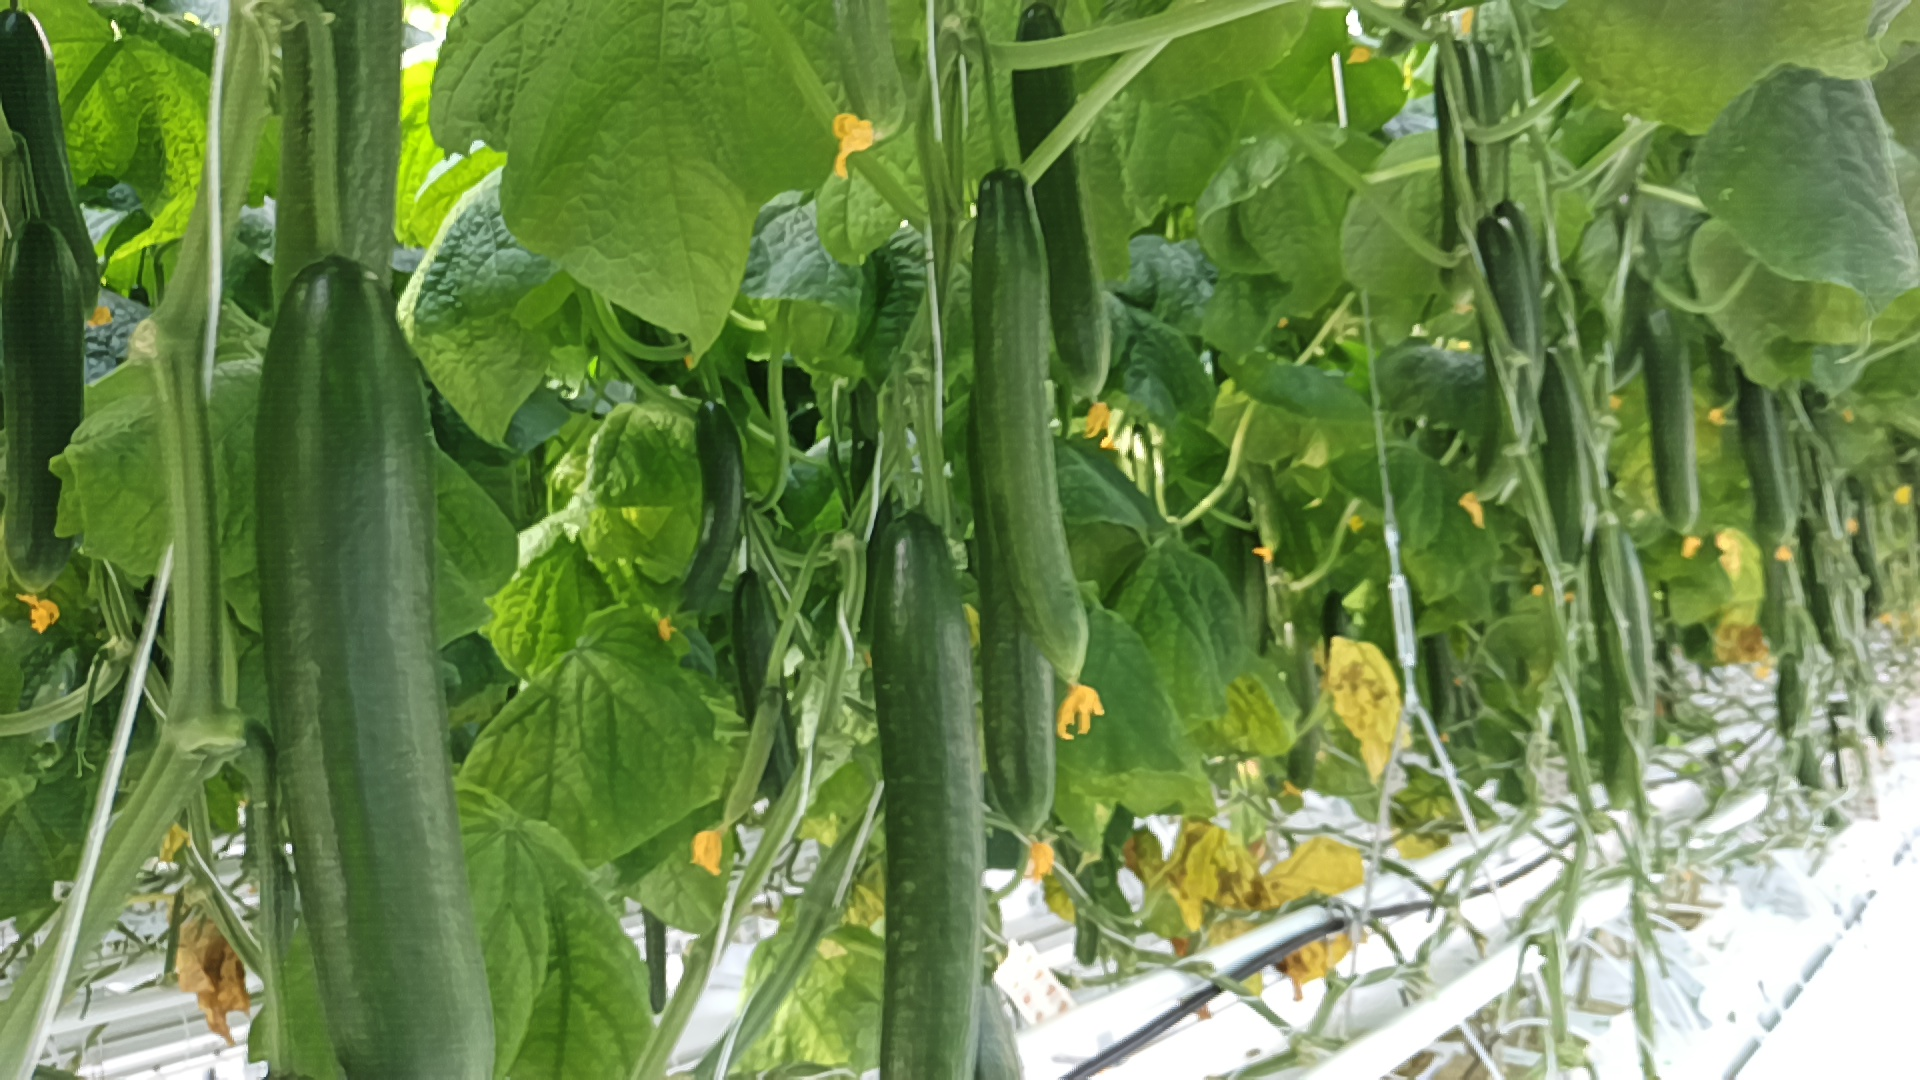gurka: (243, 247, 534, 1080), (829, 506, 1009, 1080), (957, 162, 1112, 700), (1466, 207, 1560, 534), (1626, 295, 1722, 555)
